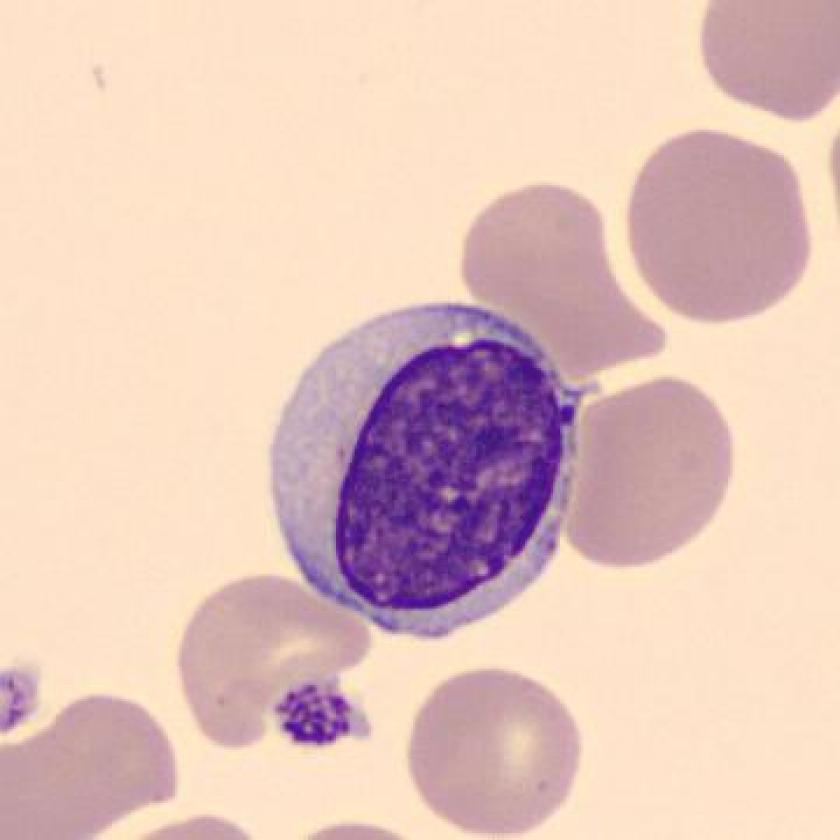lymphocyte: (251, 288, 612, 651)
